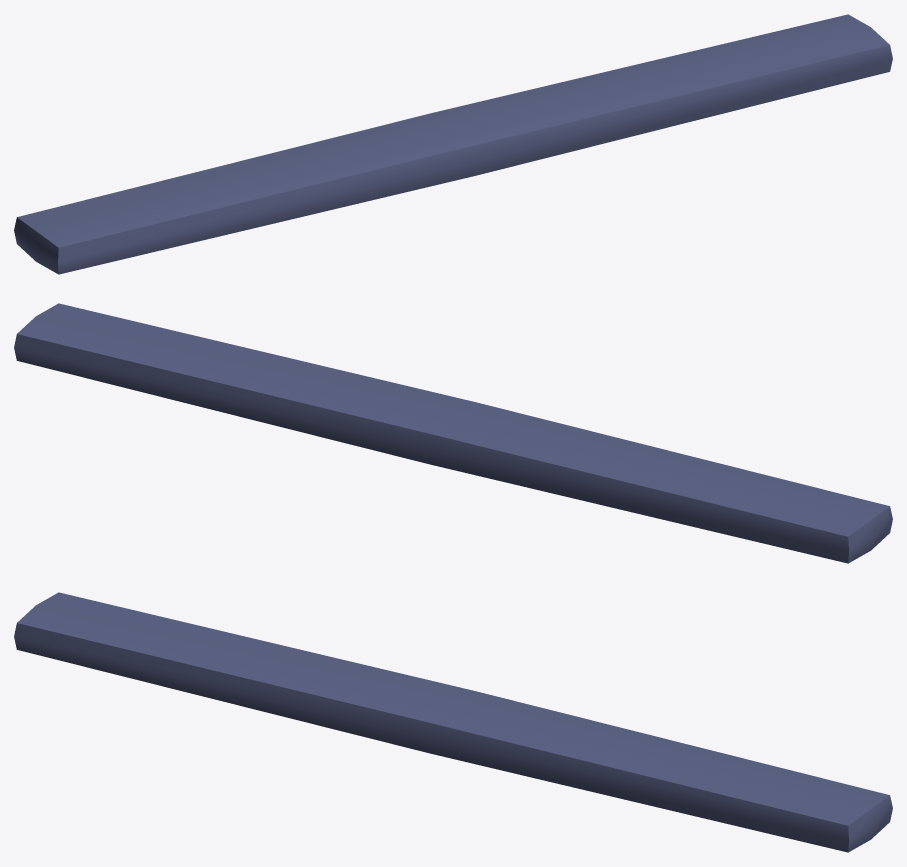
File: cable-tray.glb
3 renders of one model, top to bottom at view 1: azimuth 30°, elevation 25°; view 2: azimuth 150°, elevation 25°; view 3: azimuth 330°, elevation 25°, orthographic.
Parts seen in each view (by area): view 1: part; view 2: part; view 3: part.
Boxes of the visible parts, bbox=[...] form: part: bbox=[14, 14, 892, 274]; part: bbox=[14, 303, 892, 563]; part: bbox=[14, 592, 892, 852].
Size of the model in its own units: 1.8 by 0.08 by 0.18.
1 material, 1 textured.
